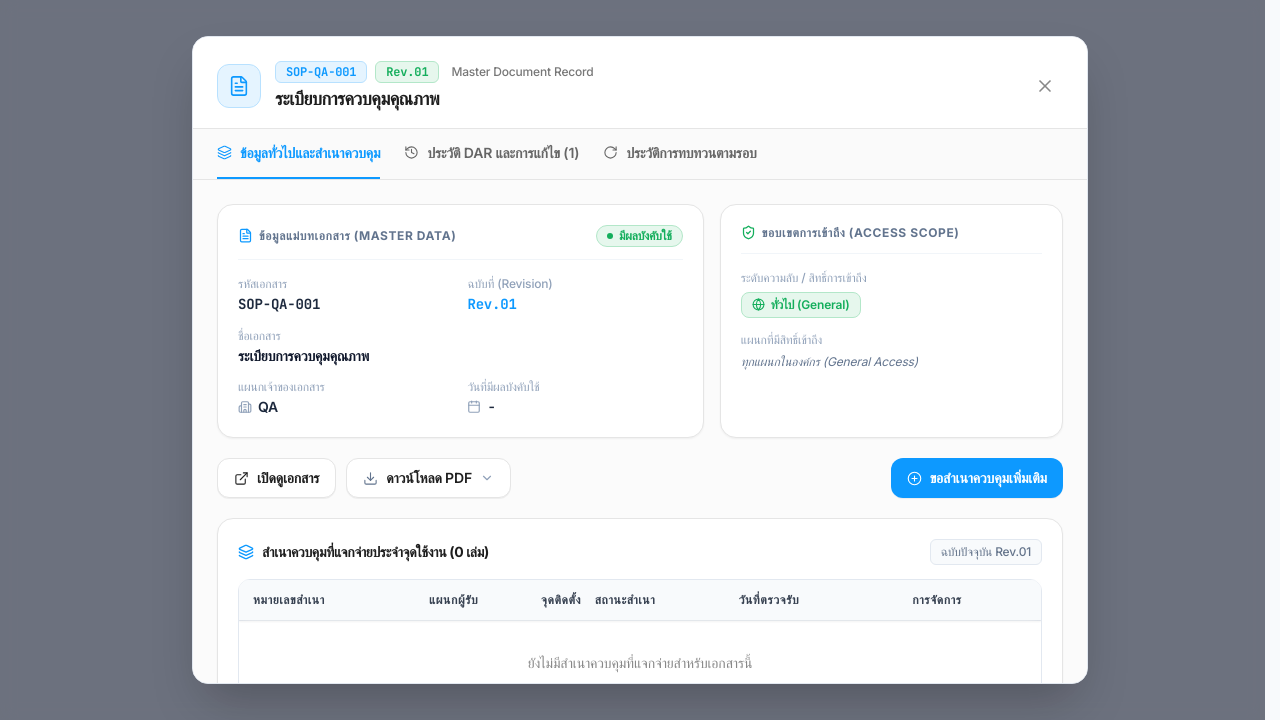
Notification Popover & DAR History Text-Wrap Constraints › 3. DocumentDetailModal DAR History Card Text Overflow & Formatting › renders DAR history card with surface box bg-[#F8FAFC] and strict break-words break-all without duplicate colons
This screenshot has width=1280, height=720.
# Switch to History Tab
Click the button "ประวัติ DAR และการแก้ไข (1)": (492, 154) [404,129,579,179]
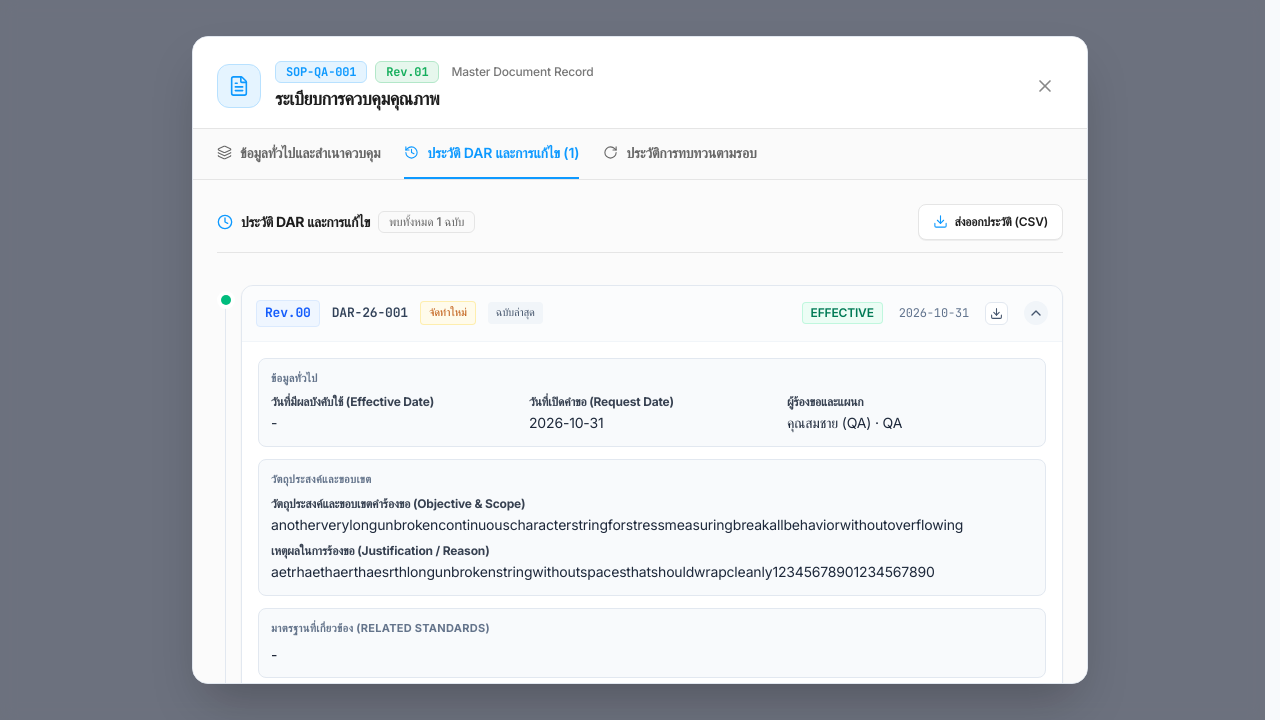
expect the text "DAR-26-001" is shown: met, box [332,303,408,324]
expect the text "เหตุผลในการร้องขอ (Justification / Reason)" is shown: met, box [271,543,490,558]
expect the text "aetrhaethaerthaesrthlongunbrokenstringwithoutspacesthatshouldwrapcleanly12345678901234567890" is shown: met, box [271,563,934,580]
